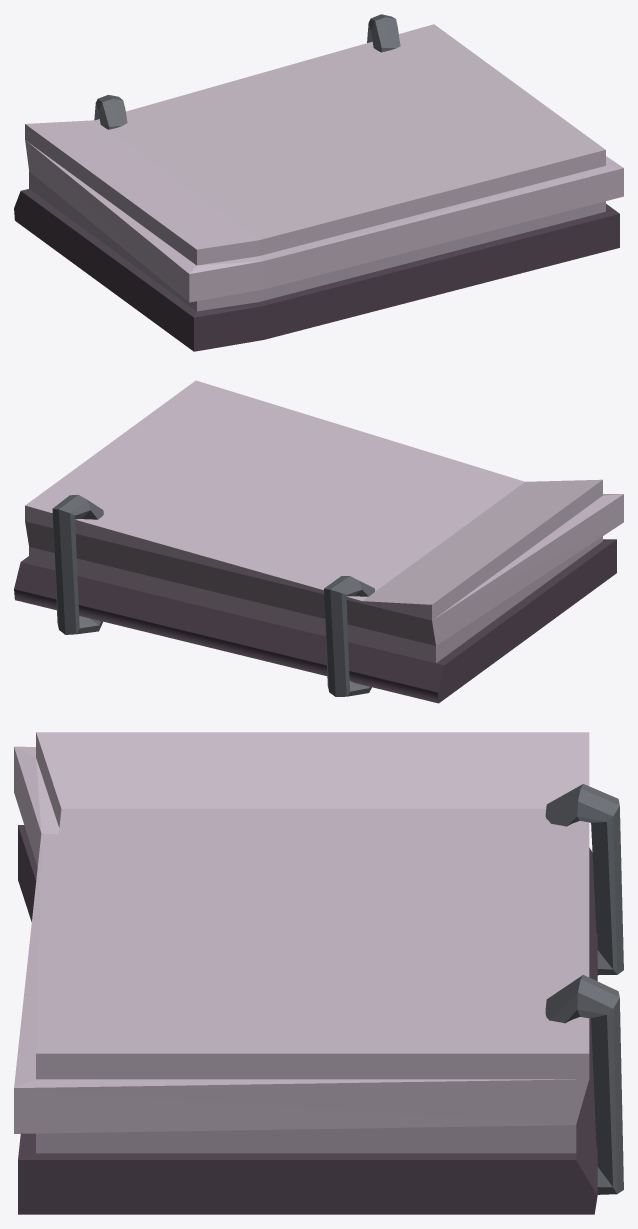
Rendered from SM_Prop_Book_02.fbx.
3 views of the same model, one above another, from view 1: azimuth 30°, elevation 25°; view 2: azimuth 150°, elevation 25°; view 3: azimuth 270°, elevation 25° (orthographic). The views are drawn at different scales.
Parts seen in each view (by area): view 1: SM_Prop_Book_02; view 2: SM_Prop_Book_02; view 3: SM_Prop_Book_02.
Boxes of the visible parts, x1,y1,x2,y2 form: SM_Prop_Book_02: [14, 14, 623, 351]; SM_Prop_Book_02: [14, 380, 623, 703]; SM_Prop_Book_02: [14, 732, 623, 1214].
Bounding box in the file's own units: 0.00222 × 0.000667 × 0.00167.
1 material, 1 textured.
